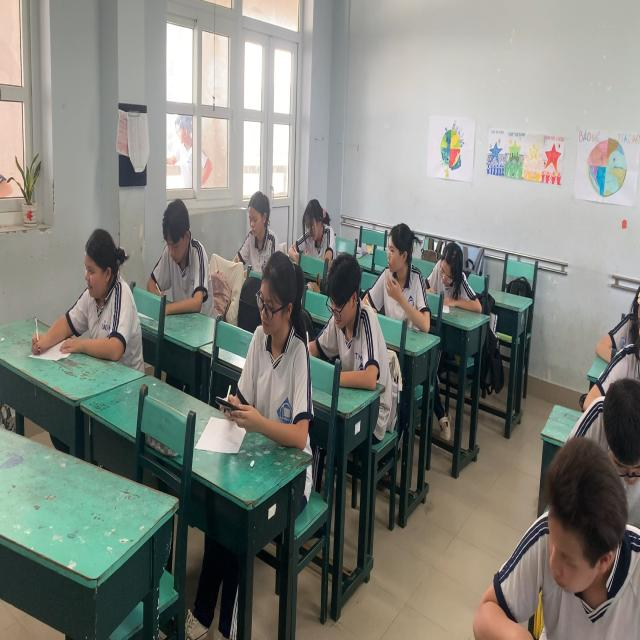not_cheating: (515, 439, 640, 636), (240, 246, 309, 458), (64, 222, 144, 374), (319, 247, 385, 407), (146, 197, 212, 317), (583, 363, 640, 485), (380, 212, 427, 347), (429, 223, 474, 329), (230, 188, 280, 272), (297, 188, 334, 276)
